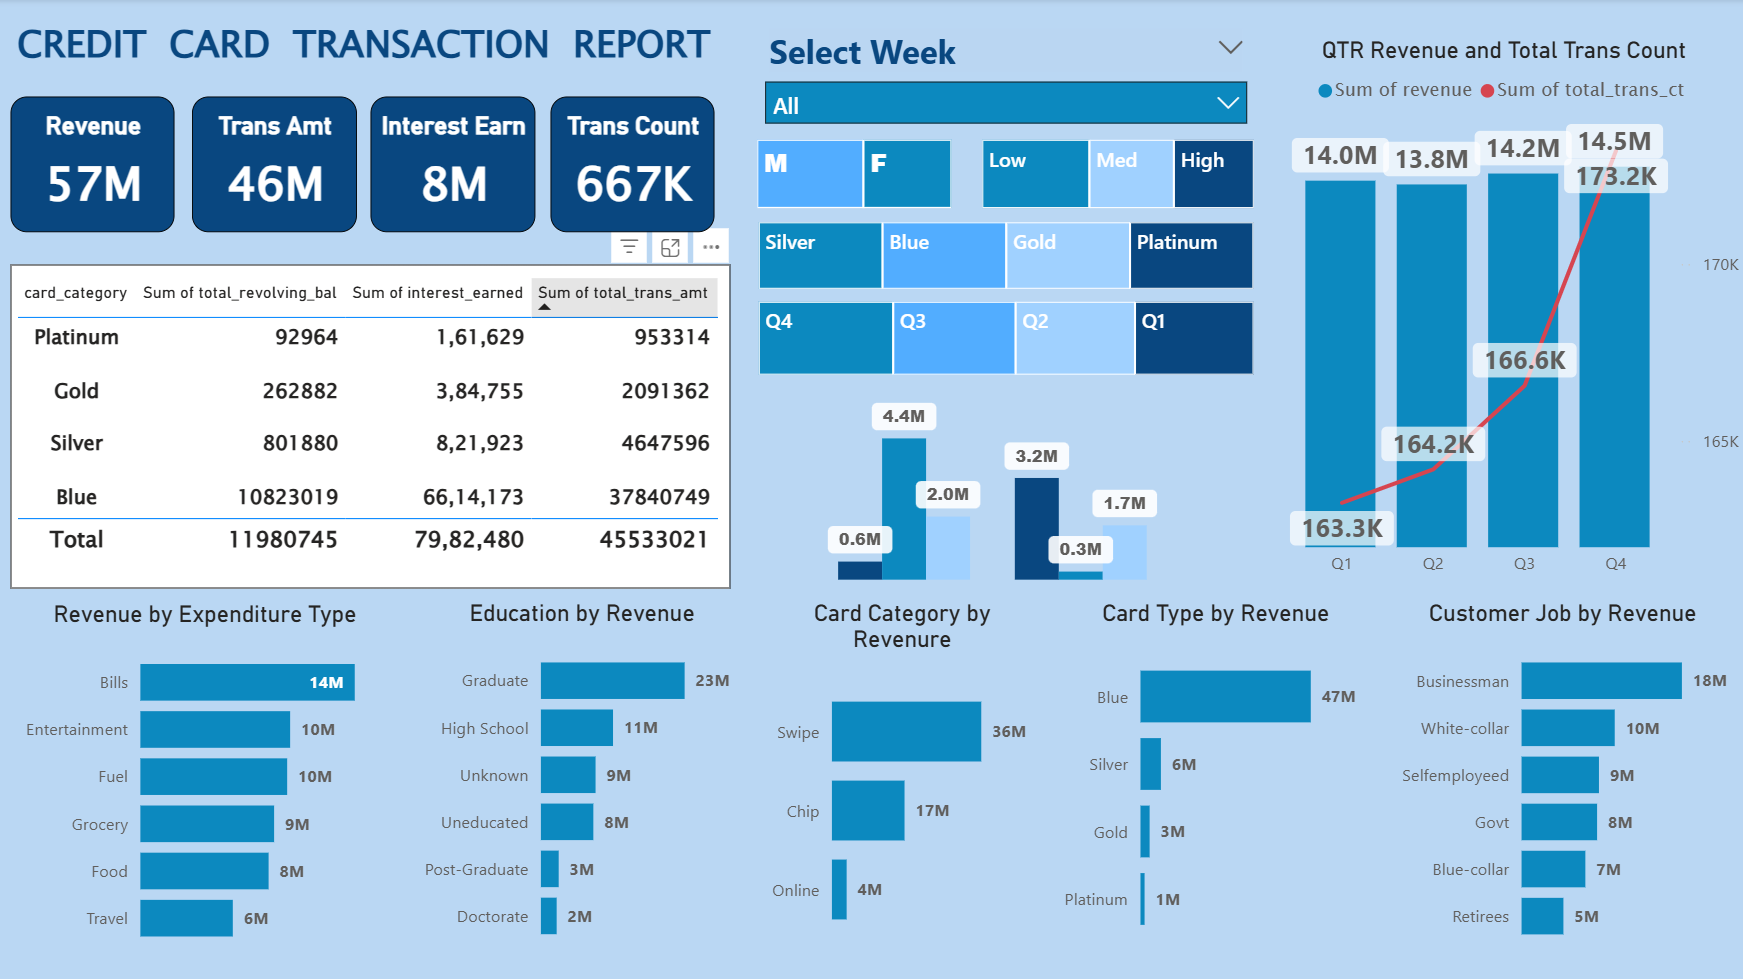

This screenshot's page, from the dashboard's own definition file:
{"tool":"powerbi","page":{"name":"cc_transaction","canvas":[1280,720],"ordinal":1},"visuals":[{"type":"textbox","box":[10,7.5,526.2,51.2],"z":0},{"type":"barChart","title":"Card Category by Revenure","fields":{"Category":["public cc_detail.use_chip"],"Y":["Sum(public cc_detail.revenue)"]},"box":[558.7,438.9,207.5,265],"z":0,"group":"g2"},{"type":"lineStackedColumnComboChart","title":"QTR Revenue and Total Trans Count","fields":{"Category":["public cc_detail.qtr"],"Y":["Sum(public cc_detail.revenue)"],"Y2":["Sum(public cc_detail.total_trans_ct)"]},"box":[925,27.5,355,403.8],"z":1000},{"type":"barChart","title":"Revenue by Expenditure Type","fields":{"Y":["Sum(public cc_detail.revenue)"],"Category":["public cc_detail.exp_type"]},"box":[7.5,439.4,289,265.4],"z":1000,"group":"g2"},{"type":"tableEx","fields":{"Values":["public cc_detail.card_category","Sum(public cc_detail.total_revolving_bal)","Sum(public cc_detail.interest_earned)","Sum(public cc_detail.total_trans_amt)"]},"box":[10,193.8,526.2,237.5],"z":2000},{"type":"barChart","title":"Education by Revenue","fields":{"Y":["Sum(public cc_detail.revenue)"],"Category":["public cust_detail.education_level"]},"box":[301.3,438.8,252.5,265],"z":2000,"group":"g2"},{"type":"group","id":"g1","title":"Group 1","box":[10,71,515.3,99.9],"z":3000},{"type":"barChart","title":"Customer Job by Revenue","fields":{"Y":["Sum(public cc_detail.revenue)"],"Category":["public cust_detail.customer_job"]},"box":[1016.3,438.8,258.8,265],"z":3000,"group":"g2"},{"type":"slicer","fields":{"Values":["public cc_detail.week_start_date"]},"box":[552.4,16.2,372.5,83.8],"z":4000,"group":"g3"},{"type":"barChart","title":"Card Type by Revenue","fields":{"Y":["Sum(public cc_detail.revenue)"],"Category":["public cc_detail.card_category"]},"box":[770,438.9,242.5,265],"z":4000,"group":"g2"},{"type":"clusteredColumnChart","fields":{"Category":["public cust_detail.gender"],"Series":["public cust_detail.IncomeGroup"],"Y":["Sum(public cc_detail.total_revolving_bal)"]},"box":[545,280,372.5,151.2],"z":5000},{"type":"treemap","fields":{"Group":["public cust_detail.gender"],"Values":["Sum(public cc_detail.revenue)"]},"box":[551.2,97.4,152.5,60],"z":6000,"group":"g3"},{"type":"treemap","fields":{"Values":["Median(public cc_detail.client_num)"],"Group":["public cc_detail.card_category"]},"box":[552.4,157.4,372.5,58.8],"z":7000,"group":"g3"},{"type":"group","id":"g2","title":"Group 3","box":[7.5,438.8,1267.5,266.2],"z":8000},{"type":"card","title":"Revenue","fields":{"Values":["Sum(public cc_detail.revenue)"]},"box":[10,71,120,99],"z":9000,"group":"g1"},{"type":"treemap","fields":{"Group":["public cc_detail.qtr"],"Values":["Avg(public cc_detail.client_num)"]},"box":[552.4,216.2,372.5,63.8],"z":9000,"group":"g3"},{"type":"card","title":"Trans Amt","fields":{"Values":["Sum(public cc_detail.total_trans_amt)"]},"box":[142.5,71.2,120.7,99],"z":10000,"group":"g1"},{"type":"treemap","fields":{"Group":["public cust_detail.IncomeGroup"],"Values":["CountNonNull(public cc_detail.revenue)"]},"box":[716.2,97.4,208.8,60],"z":10000,"group":"g3"},{"type":"group","id":"g3","title":"Group 2","box":[551.2,16.2,373.8,263.8],"z":10001},{"type":"card","title":"Interest Earn","fields":{"Values":["Sum(public cc_detail.interest_earned)"]},"box":[273.8,71.3,120.7,99.6],"z":11000,"group":"g1"},{"type":"card","title":"Trans Count","fields":{"Values":["Sum(public cc_detail.total_trans_ct)"]},"box":[405.3,71.2,120,99],"z":12000,"group":"g1"}]}

Visuals, with their boxes in screenshot pixels (x1, y1, x2, y2), scaled from the page's 1280x720 canvas onto the 1743x979 screenshot:
textbox: [x1=14, y1=10, x2=730, y2=80]
"Card Category by Revenure" barChart: [x1=761, y1=597, x2=1043, y2=957]
"QTR Revenue and Total Trans Count" lineStackedColumnComboChart: [x1=1260, y1=37, x2=1742, y2=586]
"Revenue by Expenditure Type" barChart: [x1=10, y1=597, x2=404, y2=958]
tableEx - public cc_detail.card_category x Sum(public cc_detail.total_revolving_bal): [x1=14, y1=264, x2=730, y2=586]
"Education by Revenue" barChart: [x1=410, y1=597, x2=754, y2=957]
"Group 1" group: [x1=14, y1=97, x2=715, y2=232]
"Customer Job by Revenue" barChart: [x1=1384, y1=597, x2=1736, y2=957]
slicer - public cc_detail.week_start_date: [x1=752, y1=22, x2=1259, y2=136]
"Card Type by Revenue" barChart: [x1=1049, y1=597, x2=1379, y2=957]
clusteredColumnChart - public cust_detail.gender x public cust_detail.IncomeGroup: [x1=742, y1=381, x2=1249, y2=586]
treemap - public cust_detail.gender x Sum(public cc_detail.revenue): [x1=751, y1=132, x2=958, y2=214]
treemap - Median(public cc_detail.client_num) x public cc_detail.card_category: [x1=752, y1=214, x2=1259, y2=294]
"Group 3" group: [x1=10, y1=597, x2=1736, y2=959]
"Revenue" card: [x1=14, y1=97, x2=177, y2=231]
treemap - public cc_detail.qtr x Avg(public cc_detail.client_num): [x1=752, y1=294, x2=1259, y2=381]
"Trans Amt" card: [x1=194, y1=97, x2=358, y2=231]
treemap - public cust_detail.IncomeGroup x CountNonNull(public cc_detail.revenue): [x1=975, y1=132, x2=1260, y2=214]
"Group 2" group: [x1=751, y1=22, x2=1260, y2=381]
"Interest Earn" card: [x1=373, y1=97, x2=537, y2=232]
"Trans Count" card: [x1=552, y1=97, x2=715, y2=231]
